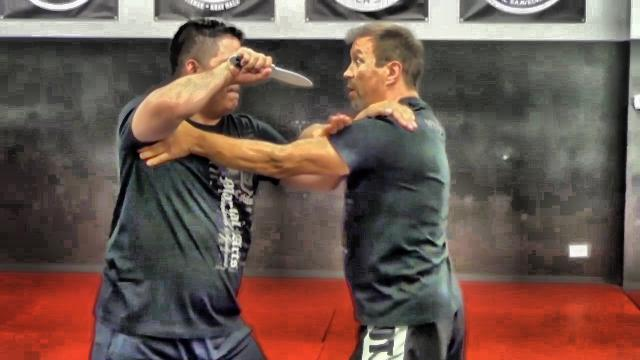knife: (226, 44, 316, 92)
